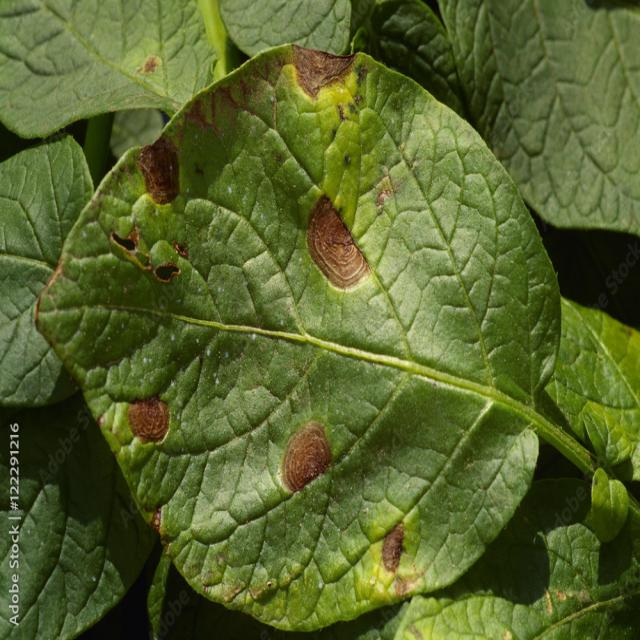leaf_spot: (36, 3, 639, 637)
